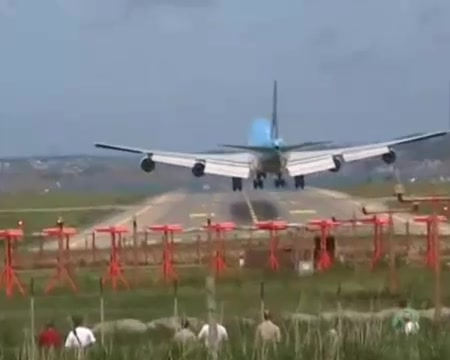aeroplane: (95, 76, 449, 193)
